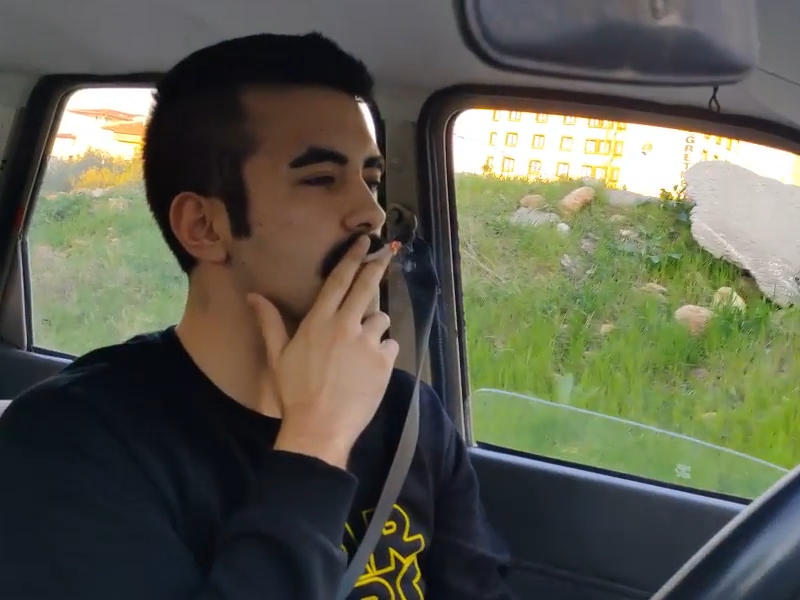sigara: (354, 235, 407, 269)
